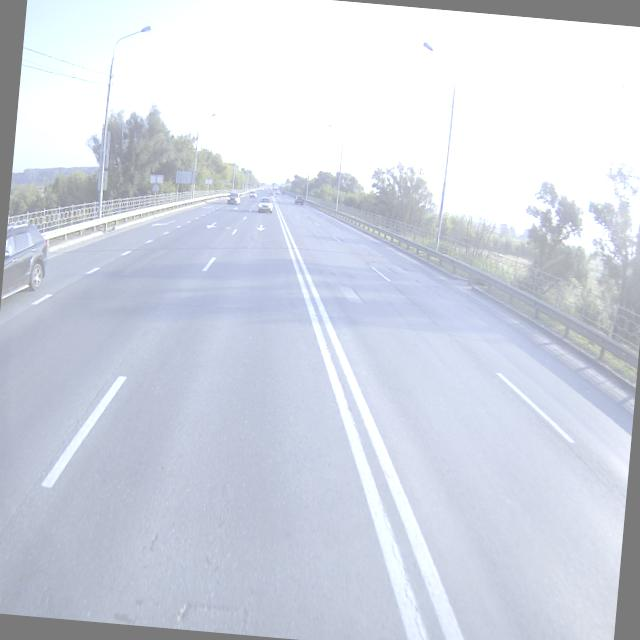road: (0, 188, 634, 640)
